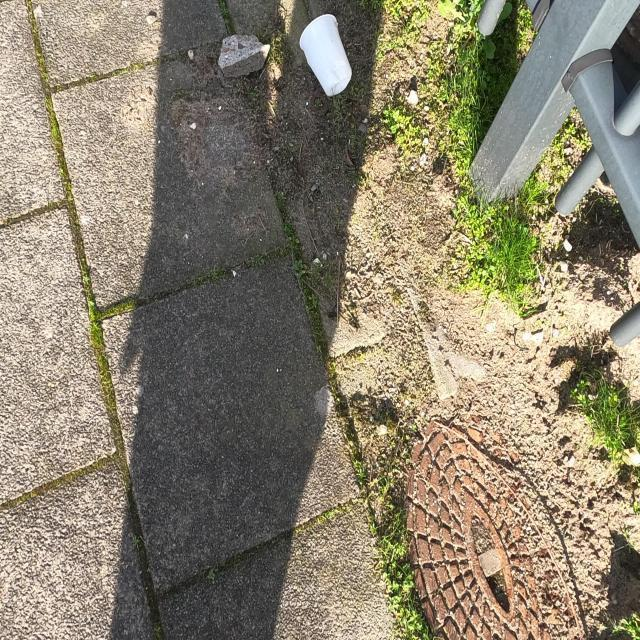Cup: (298, 12, 354, 98)
